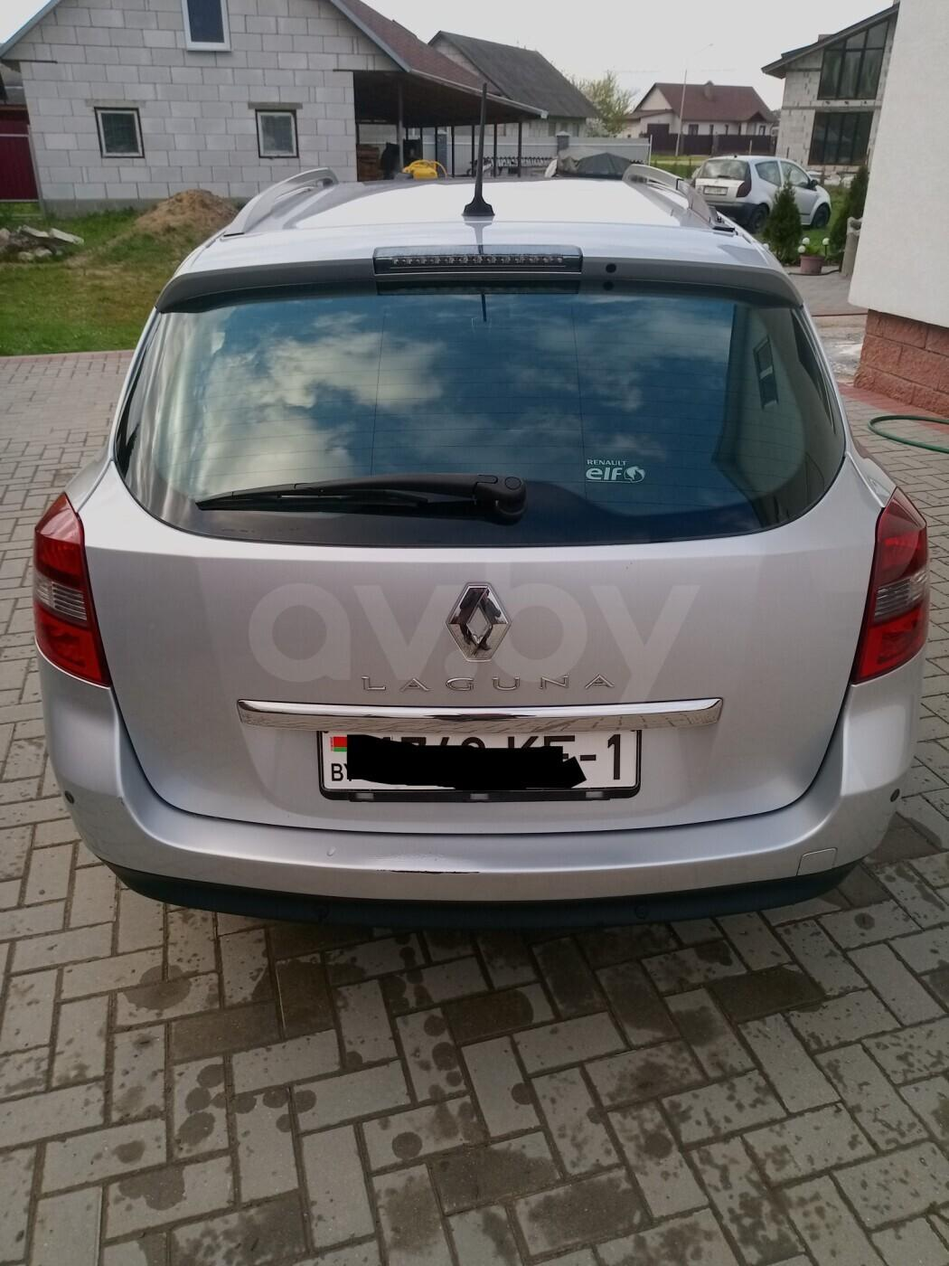Laguna_2010-2015: (25, 157, 938, 915)
